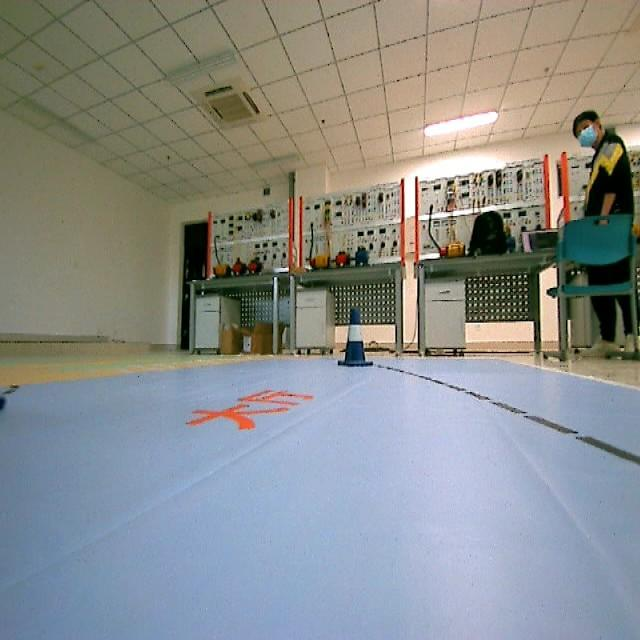obstacle: (330, 306, 381, 370)
